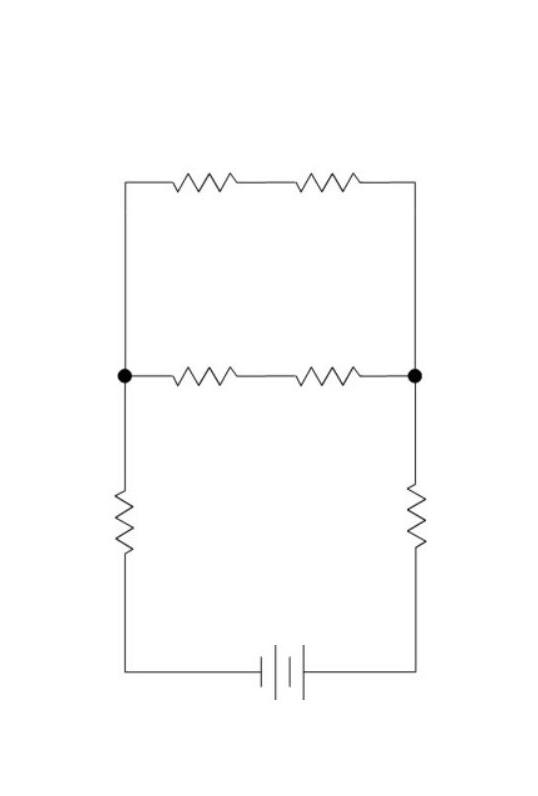resistor: (279, 144, 393, 222), (91, 465, 165, 584), (386, 454, 451, 573), (285, 338, 380, 416), (158, 155, 259, 222), (150, 342, 266, 396)
